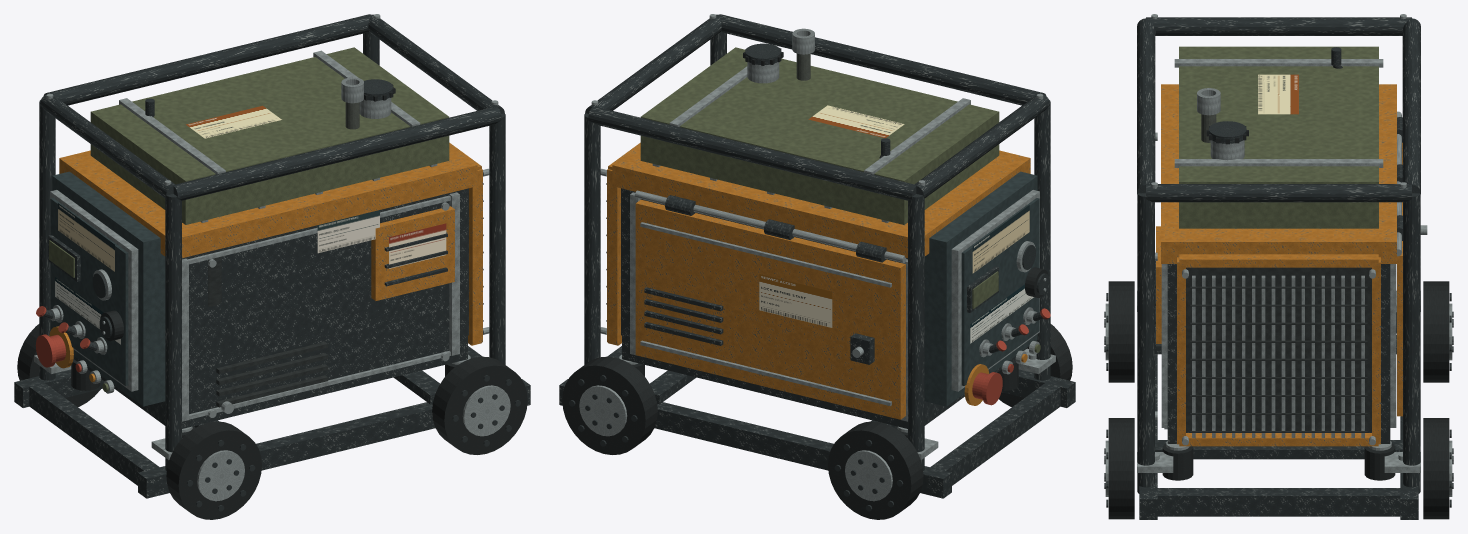
Rendered from PROJECT_Z_BRACKEN_DG6500_Diesel_Generator.glb.
3 renders of one model, left to right at view 1: azimuth 30°, elevation 25°; view 2: azimuth 150°, elevation 25°; view 3: azimuth 270°, elevation 25°, orthographic. The views are drawn at different scales.
Parts seen in each view (by area): view 1: BODY_01_Main_Engine_SoundEnclosure, FUEL_01_35L_Top_Tank_Sealed_Canister, FRAME_03_TopGuardRails_And_LiftingBar, BODY_03_UpperCover_RoundedLook_Stamped_Ribs, FRAME_01_Skid_Lower_And_Crossmembers, CTRL_02_Instrument_Bezel_Frame, CTRL_01_End_Panel_Backing_Enclosure, WHEEL_03_Industrial_Tread_Tyre, WHEEL_01_Industrial_Tread_Tyre, BODY_04_Exhaust_HeatGuard, BODY_02_SideSeams_And_StiffeningStraps, FRAME_02_TubularPost_-0.40_-0.27 (+21 smaller); view 2: ANIM_SERVICE_LID__rotate_local_X, FUEL_01_35L_Top_Tank_Sealed_Canister, FRAME_03_TopGuardRails_And_LiftingBar, BODY_03_UpperCover_RoundedLook_Stamped_Ribs, FRAME_01_Skid_Lower_And_Crossmembers, CTRL_02_Instrument_Bezel_Frame, CTRL_01_End_Panel_Backing_Enclosure, WHEEL_04_Industrial_Tread_Tyre, WHEEL_02_Industrial_Tread_Tyre, ANIM_SERVICE_LID__Louver_Embosses, FRAME_02_TubularPost_-0.40_+0.27, BODY_01_Main_Engine_SoundEnclosure (+22 smaller); view 3: FUEL_01_35L_Top_Tank_Sealed_Canister, RADIATOR_01_CoolingCore_BlackBacking, FRAME_03_TopGuardRails_And_LiftingBar, FRAME_01_Skid_Lower_And_Crossmembers, BODY_03_UpperCover_RoundedLook_Stamped_Ribs, RADIATOR_03_Raised_Vertical_Grille_Slats, RADIATOR_02_Grille_Perimeter_Frame, FRAME_02_TubularPost_+0.40_-0.27, FRAME_02_TubularPost_+0.40_+0.27, RADIATOR_04_Cross_Net_Mesh_Wires, BODY_01_Main_Engine_SoundEnclosure, FUEL_02_Tank_Welded_Seam_And_Strap (+14 smaller).
Boxes of the visible parts, x1,y1,x2,y2 form: BODY_01_Main_Engine_SoundEnclosure: (73, 188, 467, 428); FUEL_01_35L_Top_Tank_Sealed_Canister: (90, 47, 449, 224); FRAME_03_TopGuardRails_And_LiftingBar: (40, 14, 504, 200); BODY_03_UpperCover_RoundedLook_Stamped_Ribs: (59, 145, 477, 258); FRAME_01_Skid_Lower_And_Crossmembers: (14, 346, 530, 498); CTRL_02_Instrument_Bezel_Frame: (50, 190, 138, 391); CTRL_01_End_Panel_Backing_Enclosure: (52, 171, 165, 406); WHEEL_03_Industrial_Tread_Tyre: (432, 356, 527, 454); WHEEL_01_Industrial_Tread_Tyre: (166, 421, 261, 519); BODY_04_Exhaust_HeatGuard: (371, 206, 454, 300); BODY_02_SideSeams_And_StiffeningStraps: (182, 192, 459, 421); FRAME_02_TubularPost_-0.40_-0.27: (165, 194, 181, 470); ANIM_SERVICE_LID__rotate_local_X: (635, 199, 905, 419); FUEL_01_35L_Top_Tank_Sealed_Canister: (640, 47, 999, 224); FRAME_03_TopGuardRails_And_LiftingBar: (585, 14, 1049, 200); BODY_03_UpperCover_RoundedLook_Stamped_Ribs: (612, 145, 1030, 258); FRAME_01_Skid_Lower_And_Crossmembers: (559, 346, 1075, 498); CTRL_02_Instrument_Bezel_Frame: (951, 190, 1039, 391); CTRL_01_End_Panel_Backing_Enclosure: (924, 171, 1037, 406); WHEEL_04_Industrial_Tread_Tyre: (562, 356, 657, 454); WHEEL_02_Industrial_Tread_Tyre: (828, 421, 923, 519); ANIM_SERVICE_LID__Louver_Embosses: (640, 222, 891, 406); FRAME_02_TubularPost_-0.40_+0.27: (908, 194, 924, 470); BODY_01_Main_Engine_SoundEnclosure: (622, 188, 1015, 428); FUEL_01_35L_Top_Tank_Sealed_Canister: (1179, 46, 1378, 228); RADIATOR_01_CoolingCore_BlackBacking: (1186, 267, 1371, 431); FRAME_03_TopGuardRails_And_LiftingBar: (1137, 17, 1420, 202); FRAME_01_Skid_Lower_And_Crossmembers: (1139, 312, 1418, 519); BODY_03_UpperCover_RoundedLook_Stamped_Ribs: (1161, 84, 1396, 263); RADIATOR_03_Raised_Vertical_Grille_Slats: (1192, 275, 1364, 437); RADIATOR_02_Grille_Perimeter_Frame: (1177, 254, 1380, 446); FRAME_02_TubularPost_+0.40_-0.27: (1137, 193, 1154, 493); FRAME_02_TubularPost_+0.40_+0.27: (1403, 193, 1420, 493); RADIATOR_04_Cross_Net_Mesh_Wires: (1190, 286, 1367, 432); BODY_01_Main_Engine_SoundEnclosure: (1167, 264, 1390, 443); FUEL_02_Tank_Welded_Seam_And_Strap: (1174, 59, 1383, 167).
Bounding box in the file's own units: 0.9885 × 0.837 × 0.702.
10 materials, 10 textured.
